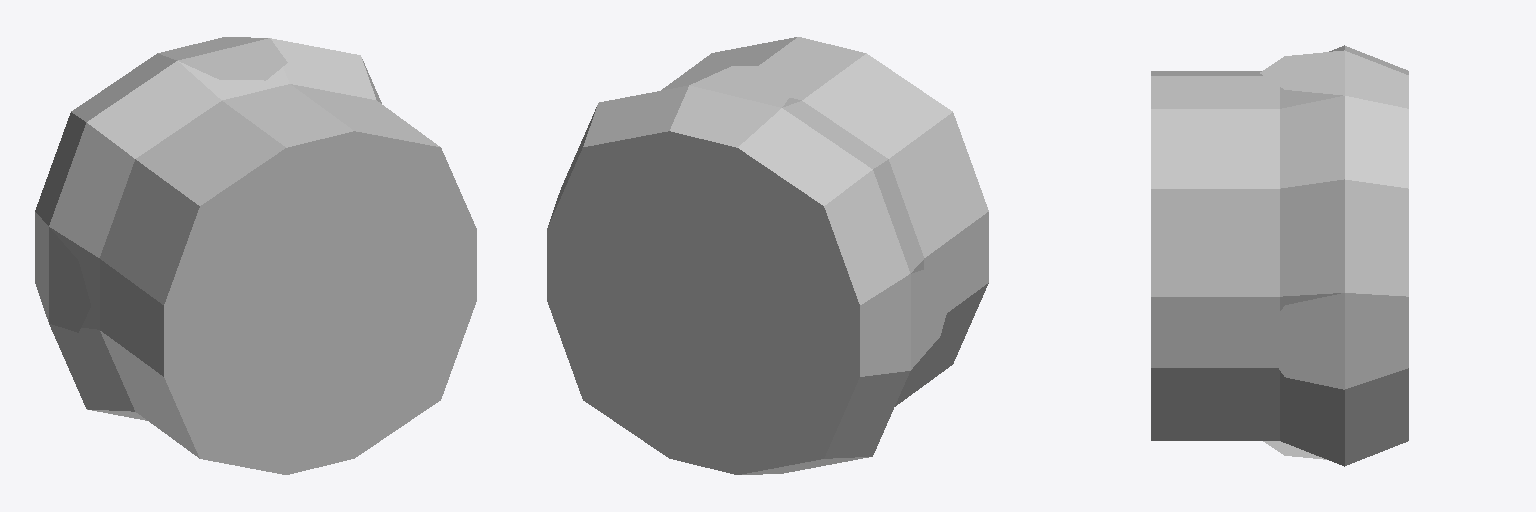
The model's file is block-snow-overhang-low-narrow.obj.
The picture shows the model from 3 angles: view 1: azimuth 30°, elevation 25°; view 2: azimuth 150°, elevation 25°; view 3: azimuth 270°, elevation 25°; orthographic projection.
Parts seen in each view (by area): view 1: block-snow-overhang-low-narrow; view 2: block-snow-overhang-low-narrow; view 3: block-snow-overhang-low-narrow.
Part boxes in pixels (left/top/right/bottom): block-snow-overhang-low-narrow: left=35, top=37, right=476, bottom=474; block-snow-overhang-low-narrow: left=547, top=37, right=988, bottom=474; block-snow-overhang-low-narrow: left=1151, top=45, right=1408, bottom=466.
Size of the model in its own units: 0.7821 by 0.7821 by 0.5.